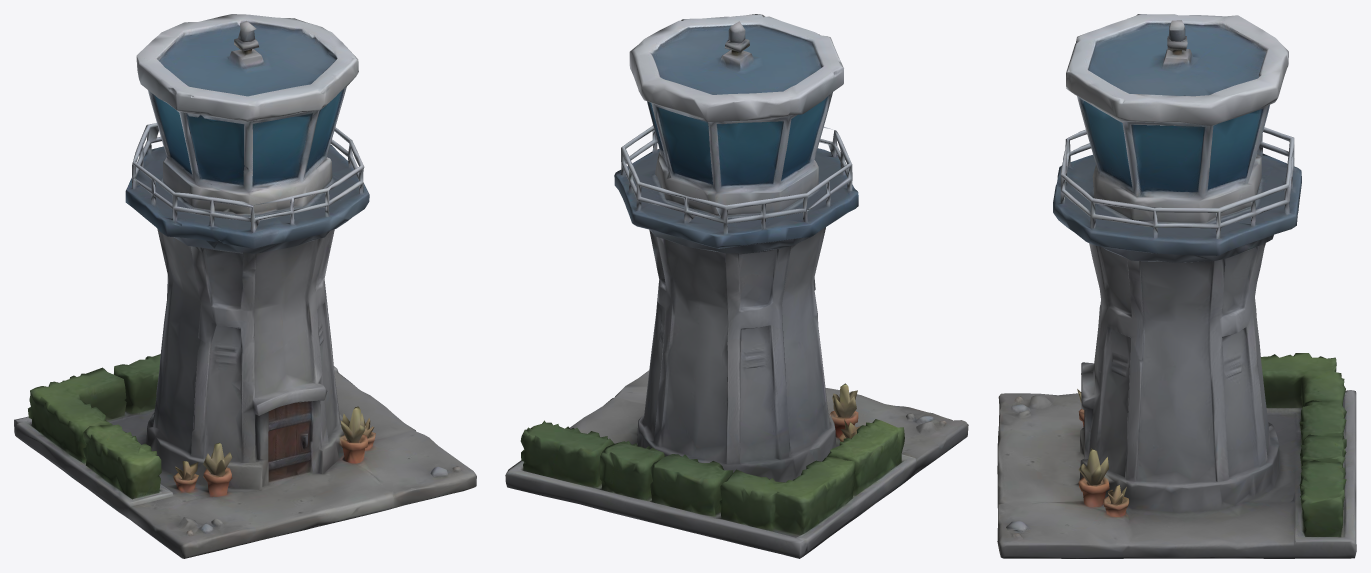
Rendered from journey_tower.glb.
The picture shows the model from 3 angles, left to right: view 1: azimuth 30°, elevation 25°; view 2: azimuth 150°, elevation 25°; view 3: azimuth 270°, elevation 25°; orthographic projection. The views are drawn at different scales.
Visible parts, largest first — view 1: tripo_node_0b519dbd-765a-4094-9f99-d40b2a9ab3de; view 2: tripo_node_0b519dbd-765a-4094-9f99-d40b2a9ab3de; view 3: tripo_node_0b519dbd-765a-4094-9f99-d40b2a9ab3de.
Boxes of the visible parts, x1,y1,x2,y2 form: tripo_node_0b519dbd-765a-4094-9f99-d40b2a9ab3de: (14, 14, 476, 558); tripo_node_0b519dbd-765a-4094-9f99-d40b2a9ab3de: (505, 14, 968, 558); tripo_node_0b519dbd-765a-4094-9f99-d40b2a9ab3de: (997, 14, 1356, 558).
Bounding box in the file's own units: 0.7085 × 1 × 0.7016.
1 material, 1 textured.
